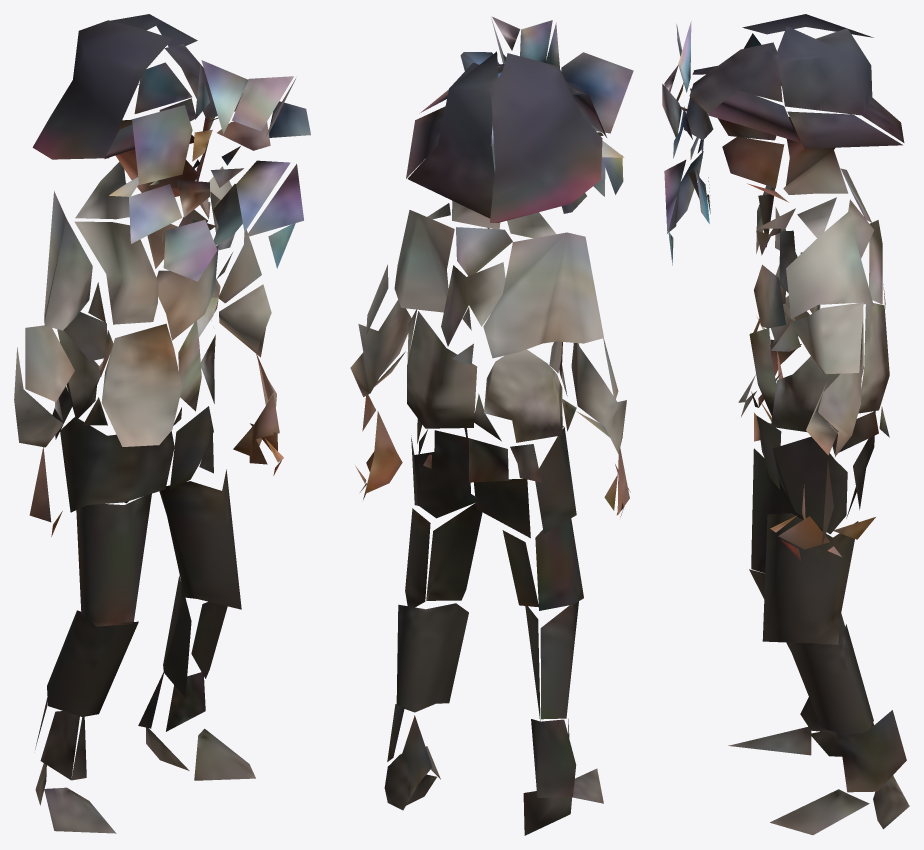
Rendered from cast_oscar_far.glb.
3 views of the same model, side by side, from view 1: azimuth 30°, elevation 25°; view 2: azimuth 150°, elevation 25°; view 3: azimuth 270°, elevation 25° (orthographic). The views are drawn at different scales.
Visible parts, largest first — view 1: tripo_node_c9209fbc-5ba6-4d06-9652-62d416d54b07; view 2: tripo_node_c9209fbc-5ba6-4d06-9652-62d416d54b07; view 3: tripo_node_c9209fbc-5ba6-4d06-9652-62d416d54b07.
Part boxes in pixels (x1,y1,x2,y2): tripo_node_c9209fbc-5ba6-4d06-9652-62d416d54b07: (14,14,310,833); tripo_node_c9209fbc-5ba6-4d06-9652-62d416d54b07: (350,16,633,835); tripo_node_c9209fbc-5ba6-4d06-9652-62d416d54b07: (662,14,909,835).
Bounding box in the file's own units: 0.359 × 0.9811 × 0.2855.
1 material, 1 textured.
